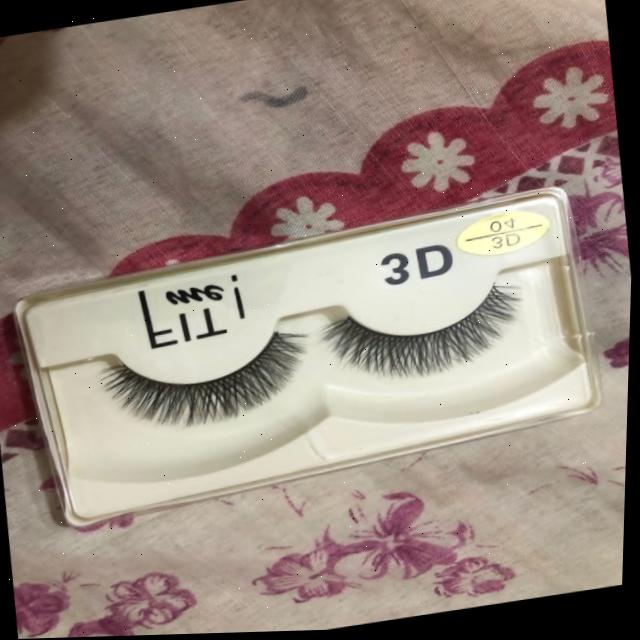eyelash curler: (68, 295, 333, 462), (315, 255, 547, 403)
